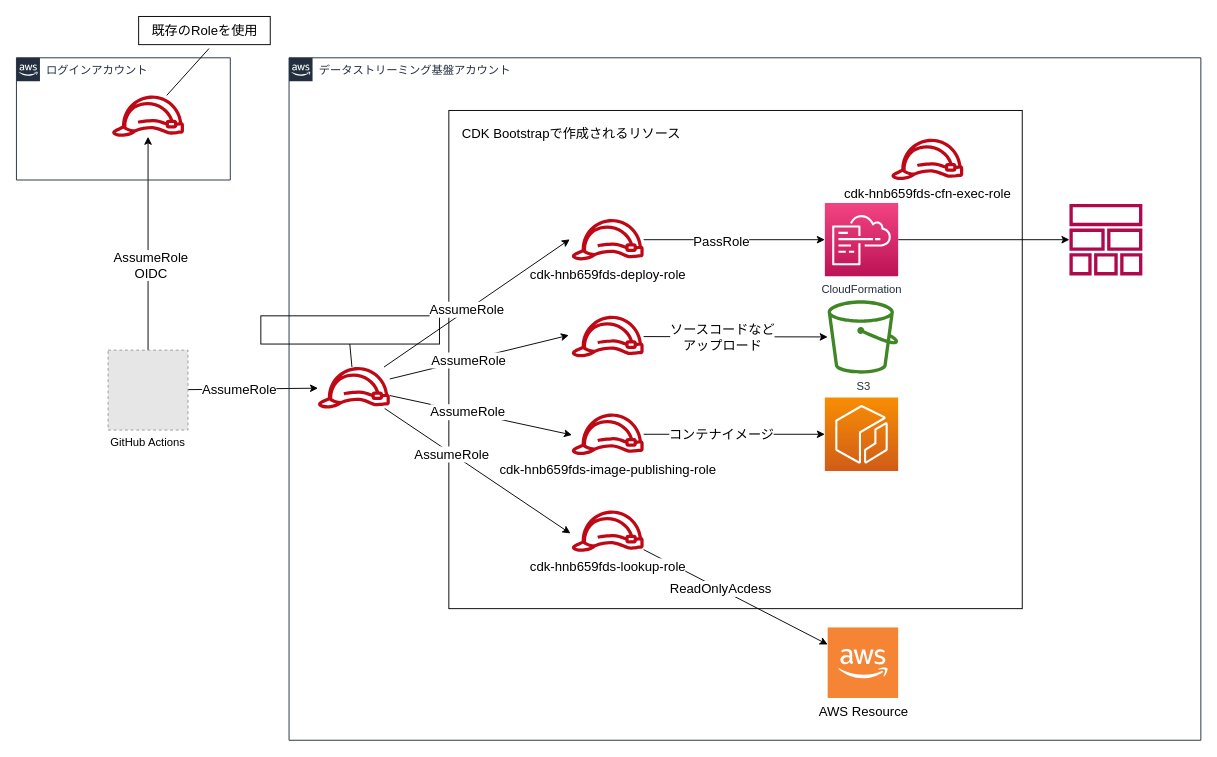
This 1217x757 diagram has some shape labels left out. Grey dashed boxes stand in for pictures. Here are the shapes that lost their labels. From the top down, the centre of each, then its label:
At pixel 147 115: "oidc-role".
At pixel 1105 239: "スタック".
At pixel 349 329: "アカウントごとに手動作成".
At pixel 607 336: "cdk-hnb659fds-file-publishing-role".
At pixel 353 387: "cdk-role".
At pixel 861 434: "ECR".
